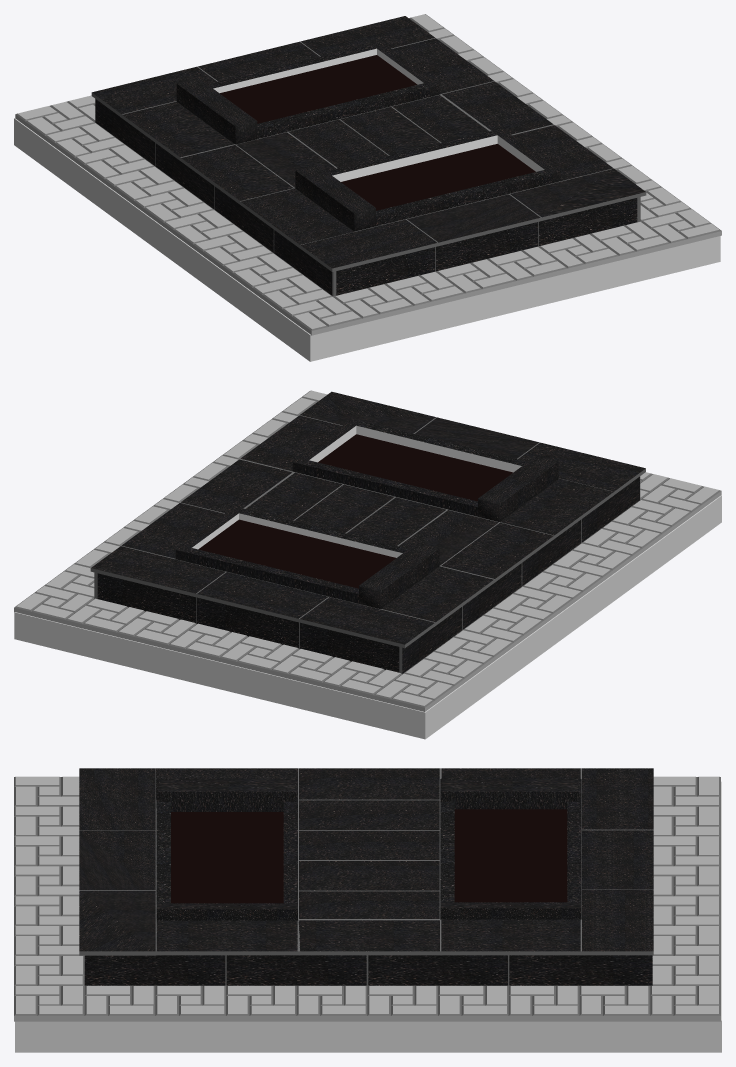
Rendered from 240-180-15 черн  [u_2_u].glb.
3 views of the same model, one above another, from view 1: azimuth 30°, elevation 25°; view 2: azimuth 150°, elevation 25°; view 3: azimuth 270°, elevation 25° (orthographic). The views are drawn at different scales.
Visible parts, largest first — view 1: plitka.003, Cube.165, Cube.163, Cube.167, Cube.168, Куб.219, Cube.171, Plane.011, Plane.007, Куб.231, Куб.226, Куб.209 (+6 smaller); view 2: plitka.003, Cube.165, Cube.163, Cube.171, Cube.168, Куб.207, Cube.167, Plane.011, Plane.007, Куб.231, Куб.208, Куб.226 (+6 smaller); view 3: plitka.003, Cube.165, Cube.163, Куб.230, Cube.168, Cube.167, Cube.171, Plane.011, Plane.007, Куб.208, Куб.226, Куб.228 (+5 smaller).
Part boxes in pixels (left/top/right/bottom): plitka.003: left=15, top=14, right=721, bottom=335; Cube.165: left=120, top=94, right=509, bottom=248; Cube.163: left=14, top=118, right=720, bottom=361; Cube.167: left=300, top=168, right=646, bottom=271; Cube.168: left=391, top=38, right=613, bottom=181; Куб.219: left=332, top=198, right=637, bottom=296; Cube.171: left=91, top=16, right=435, bottom=116; Plane.011: left=220, top=55, right=417, bottom=123; Plane.007: left=341, top=144, right=535, bottom=210; Куб.231: left=95, top=99, right=332, bottom=295; Куб.226: left=176, top=78, right=257, bottom=144; Куб.209: left=376, top=170, right=551, bottom=226; plitka.003: left=14, top=390, right=721, bottom=711; Cube.165: left=246, top=472, right=613, bottom=626; Cube.163: left=14, top=495, right=721, bottom=739; Cube.171: left=90, top=545, right=435, bottom=648; Cube.168: left=122, top=415, right=341, bottom=558; Куб.207: left=97, top=573, right=402, bottom=673; Cube.167: left=300, top=391, right=645, bottom=494; Plane.011: left=198, top=519, right=395, bottom=588; Plane.007: left=318, top=434, right=512, bottom=501; Куб.231: left=402, top=476, right=639, bottom=673; Куб.208: left=478, top=455, right=558, bottom=521; Куб.226: left=359, top=542, right=439, bottom=608; plitka.003: left=14, top=776, right=720, bottom=1021; Cube.165: left=156, top=768, right=580, bottom=919; Cube.163: left=15, top=781, right=721, bottom=1052; Куб.230: left=84, top=955, right=652, bottom=985; Cube.168: left=156, top=919, right=580, bottom=955; Cube.167: left=79, top=768, right=156, bottom=955; Cube.171: left=580, top=768, right=653, bottom=955; Plane.011: left=454, top=809, right=567, bottom=902; Plane.007: left=171, top=812, right=283, bottom=903; Куб.208: left=156, top=778, right=297, bottom=812; Куб.226: left=440, top=778, right=581, bottom=809; Куб.228: left=440, top=902, right=581, bottom=919.
Bounding box in the file's own units: 2.41 × 0.4464 × 3.
7 materials, 2 textured.
